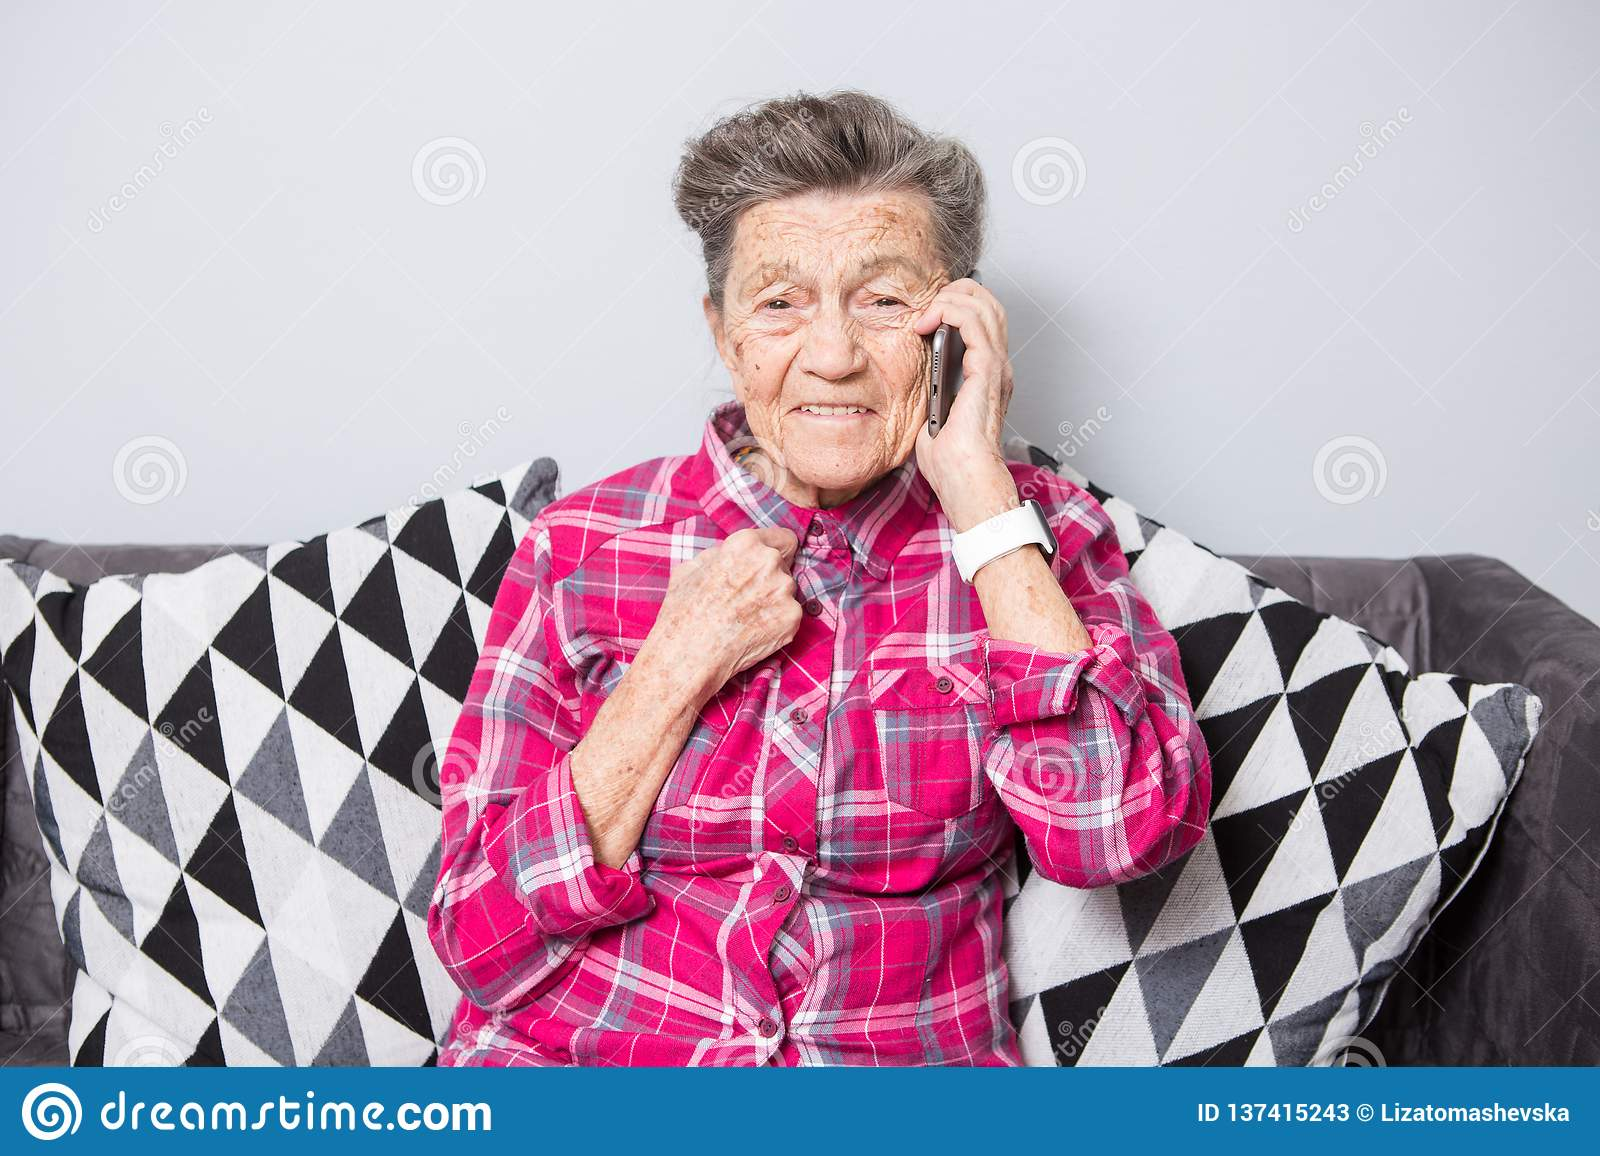phone: (929, 269, 985, 447)
talk: (730, 252, 1019, 497)
